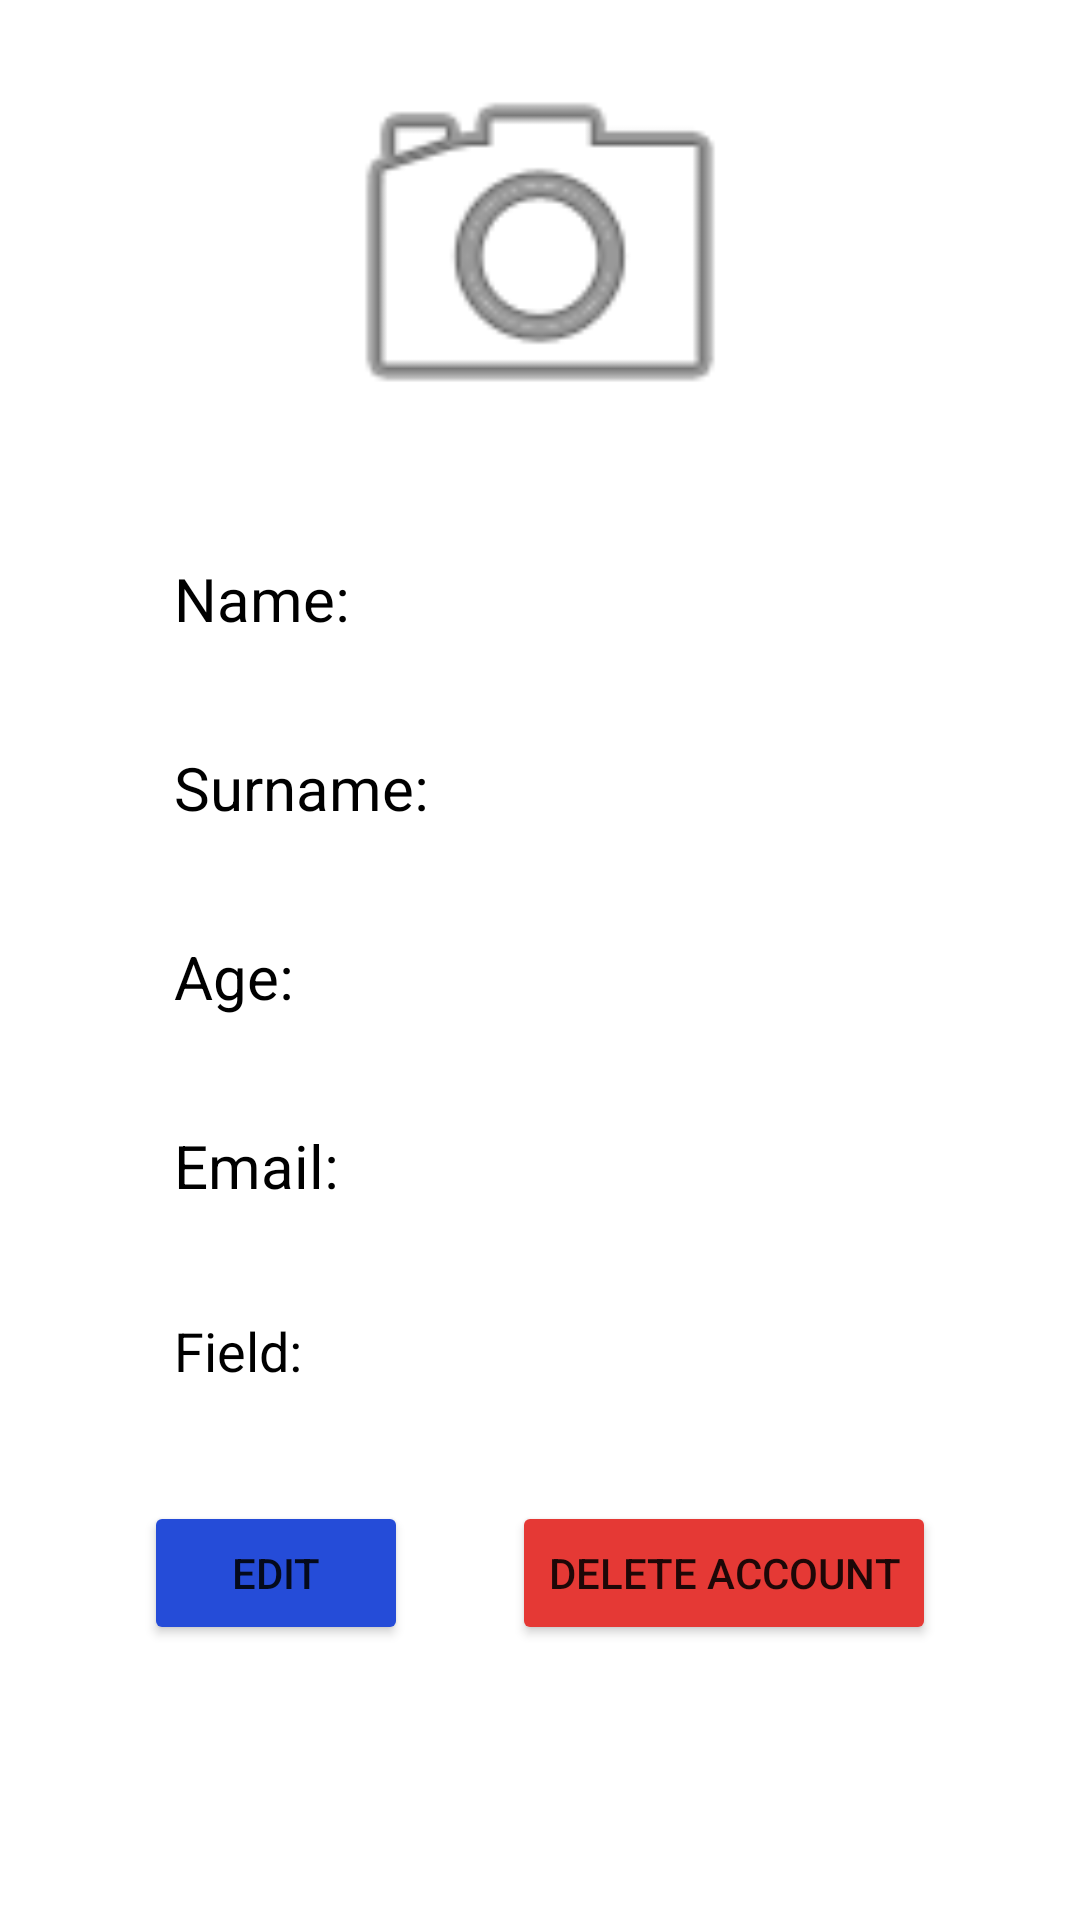

Locate icon controls on the screen. Image size 1080px x 1920px, boxes as (x1, y1, x2, y2).
camera: (366, 103, 714, 381)
